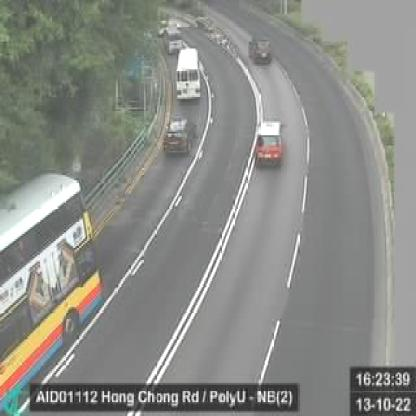Bus: (0, 171, 106, 413)
Car: (254, 118, 284, 171), (162, 117, 196, 157), (248, 36, 272, 63), (163, 24, 183, 54)
Truck: (175, 47, 202, 103)
